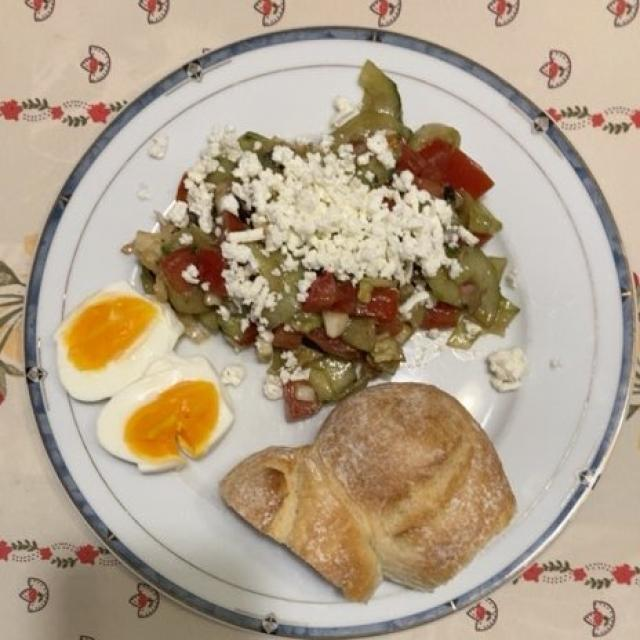bread: (229, 387, 520, 595)
egg: (51, 288, 230, 468)
salad: (145, 74, 515, 403)
